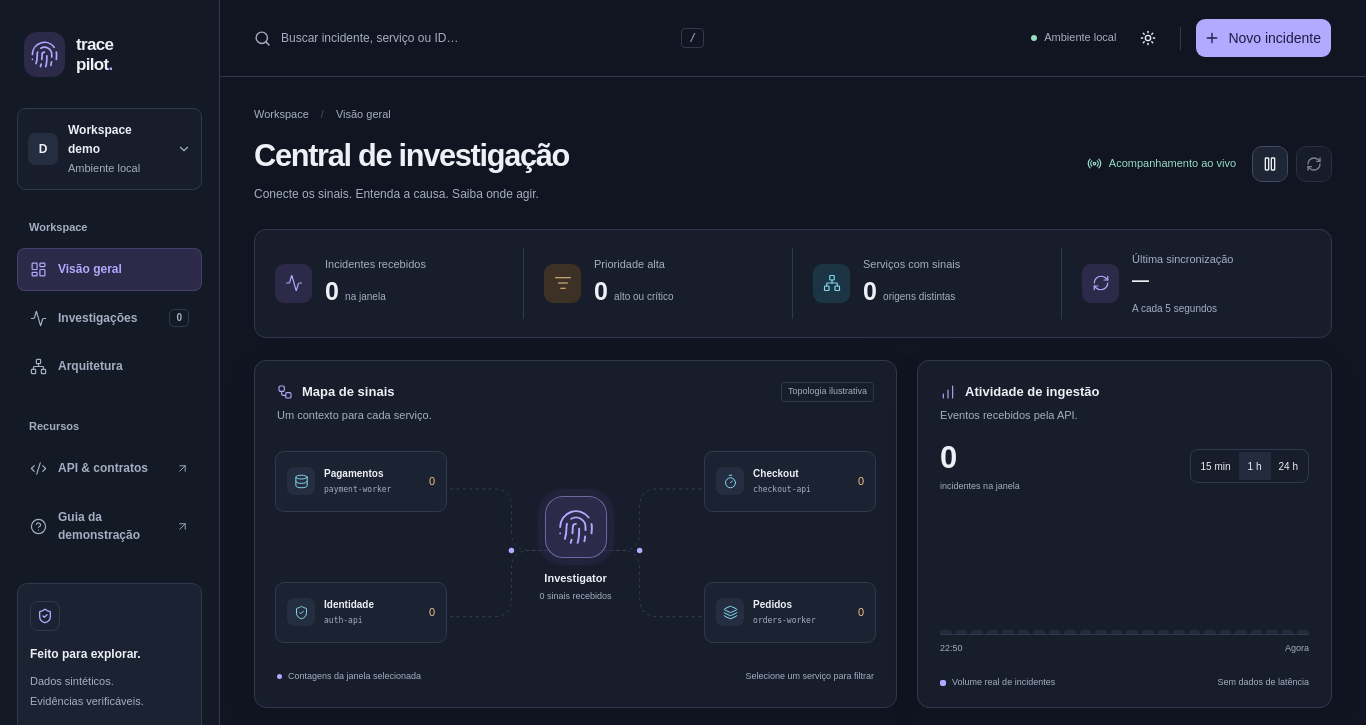
Test: investigation workspace › presents a failed ingestion inside the open dialog with a retry action
Click the button "Novo incidente" at (1264, 38), box [1195,18,1332,58]
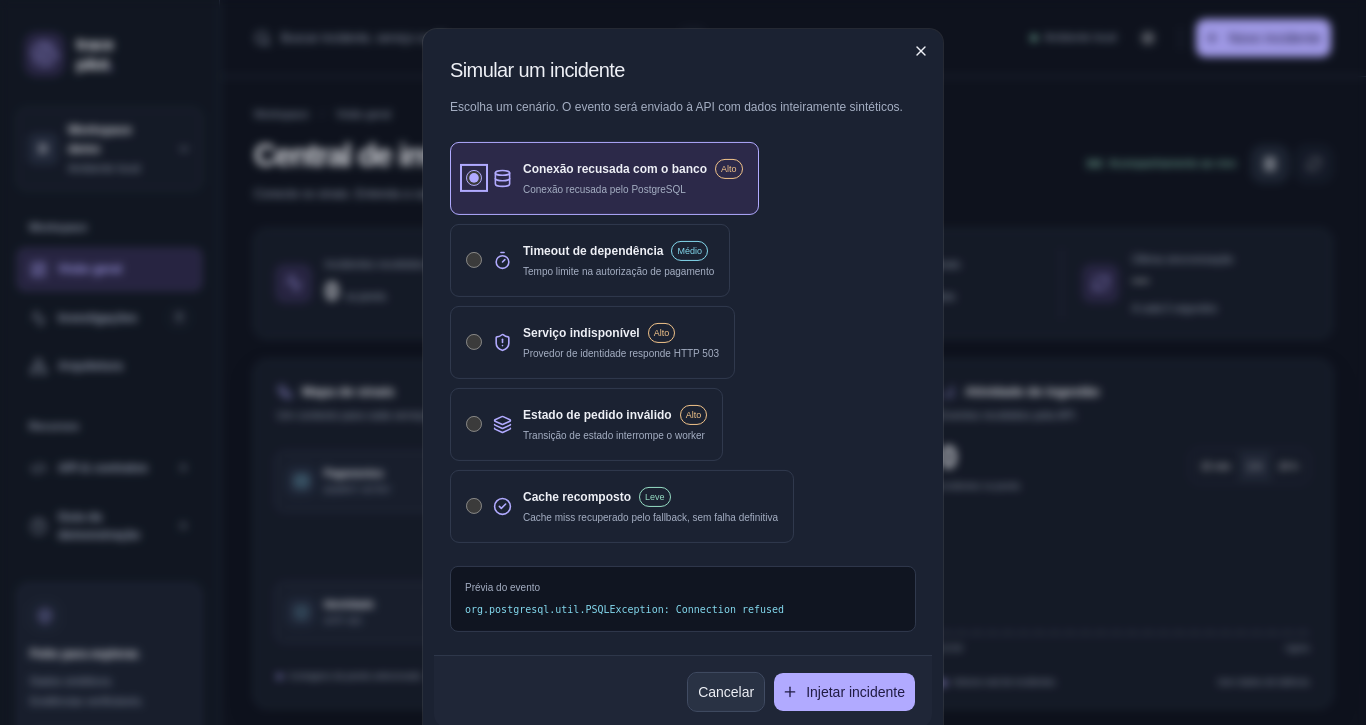
Click the button "Injetar incidente" at (845, 692), box [773,672,916,712]
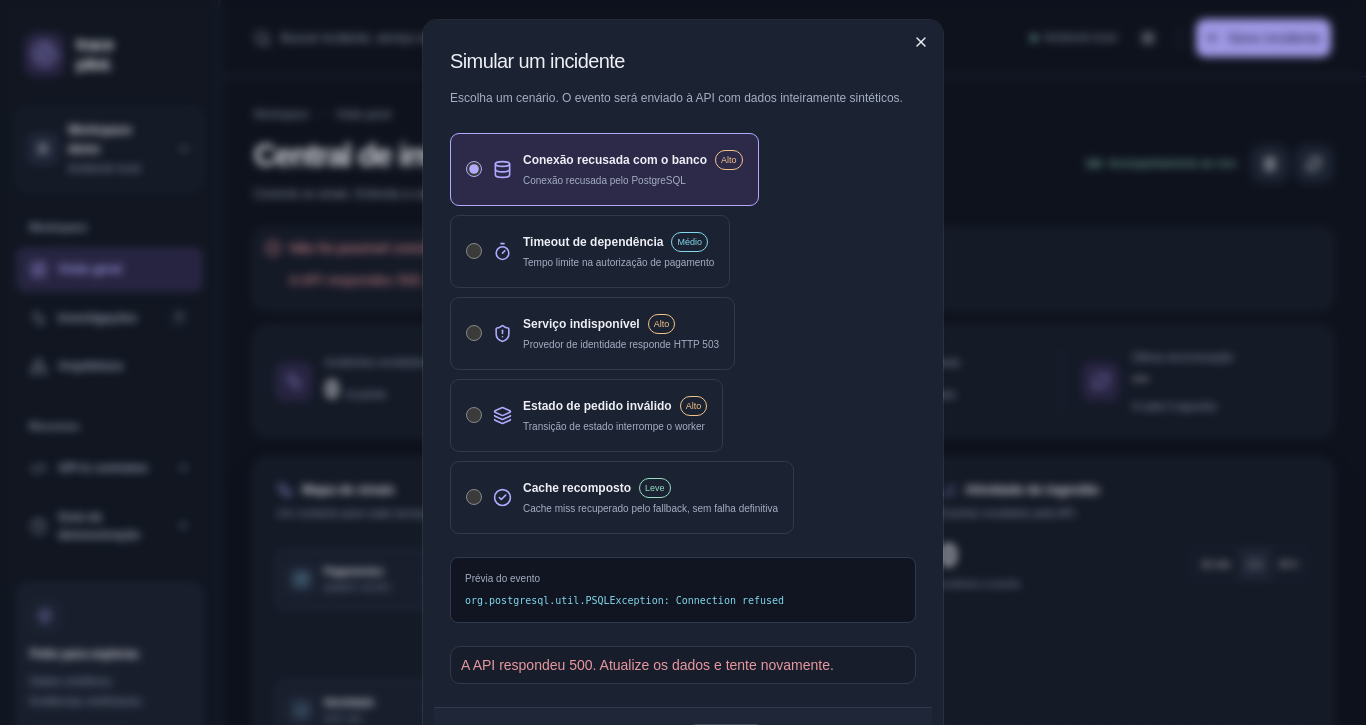
Expected: the message shows "tente novamente", [461,657,834,673]
